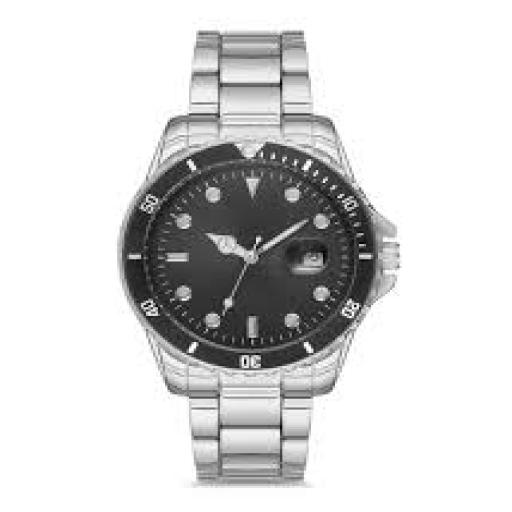KolSaati: (106, 20, 415, 504)
